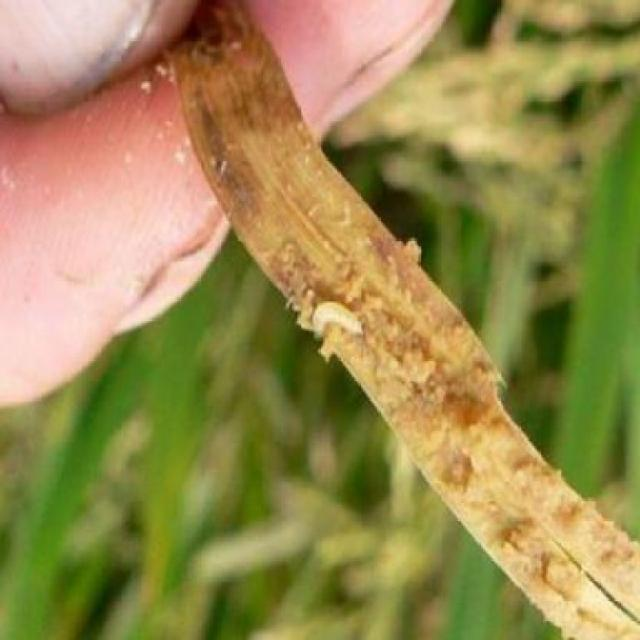whorl-maggot: (311, 294, 372, 351)
